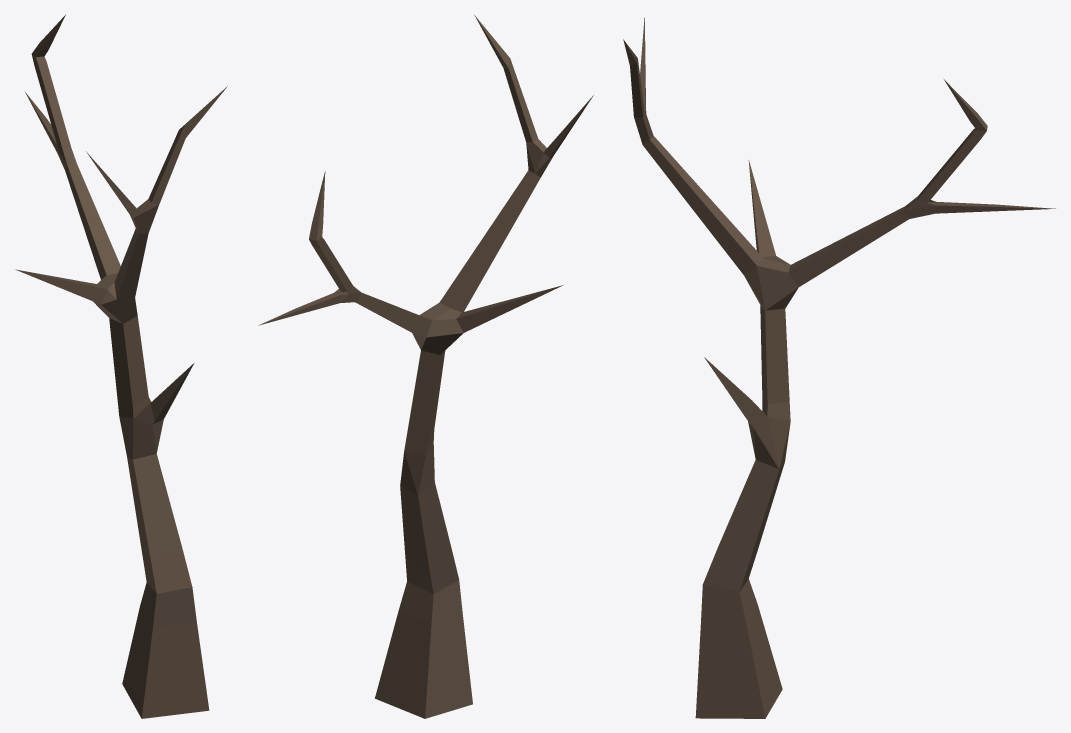
File: tree_dead.glb
3 renders of one model, left to right at view 1: azimuth 30°, elevation 25°; view 2: azimuth 150°, elevation 25°; view 3: azimuth 270°, elevation 25°, orthographic. The views are drawn at different scales.
Visible parts, largest first — view 1: tree_1; view 2: tree_1; view 3: tree_1.
Part boxes in pixels (x1=…): tree_1: x1=15, y1=14, x2=227, y2=718; tree_1: x1=258, y1=15, x2=593, y2=718; tree_1: x1=623, y1=17, x2=1055, y2=718.
Size of the model in its own units: 1.97 by 6.72 by 3.93.
